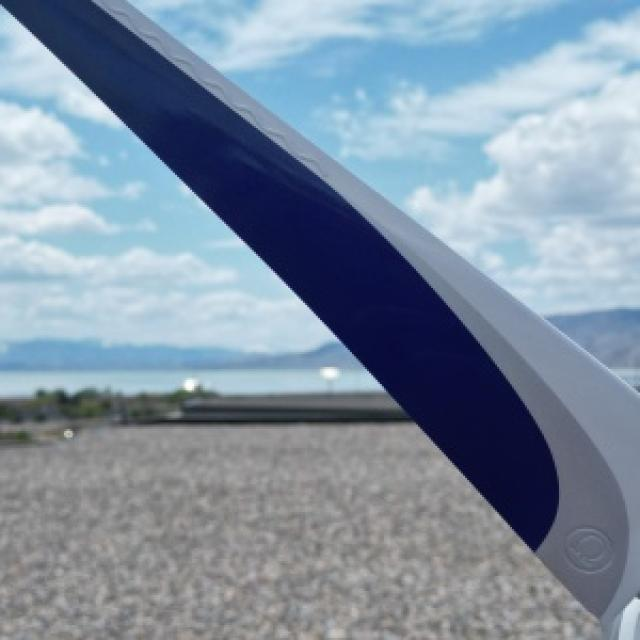healthy: (17, 0, 638, 619)
